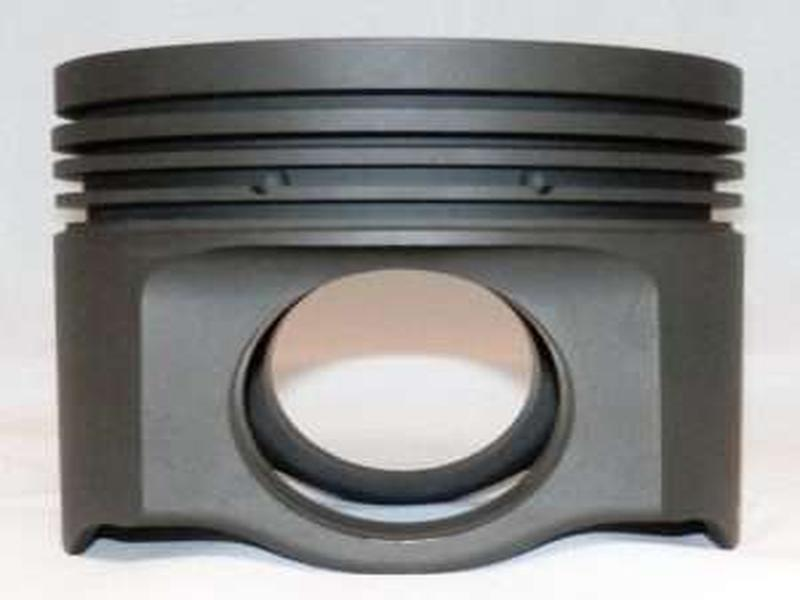piston: (48, 30, 758, 578)
